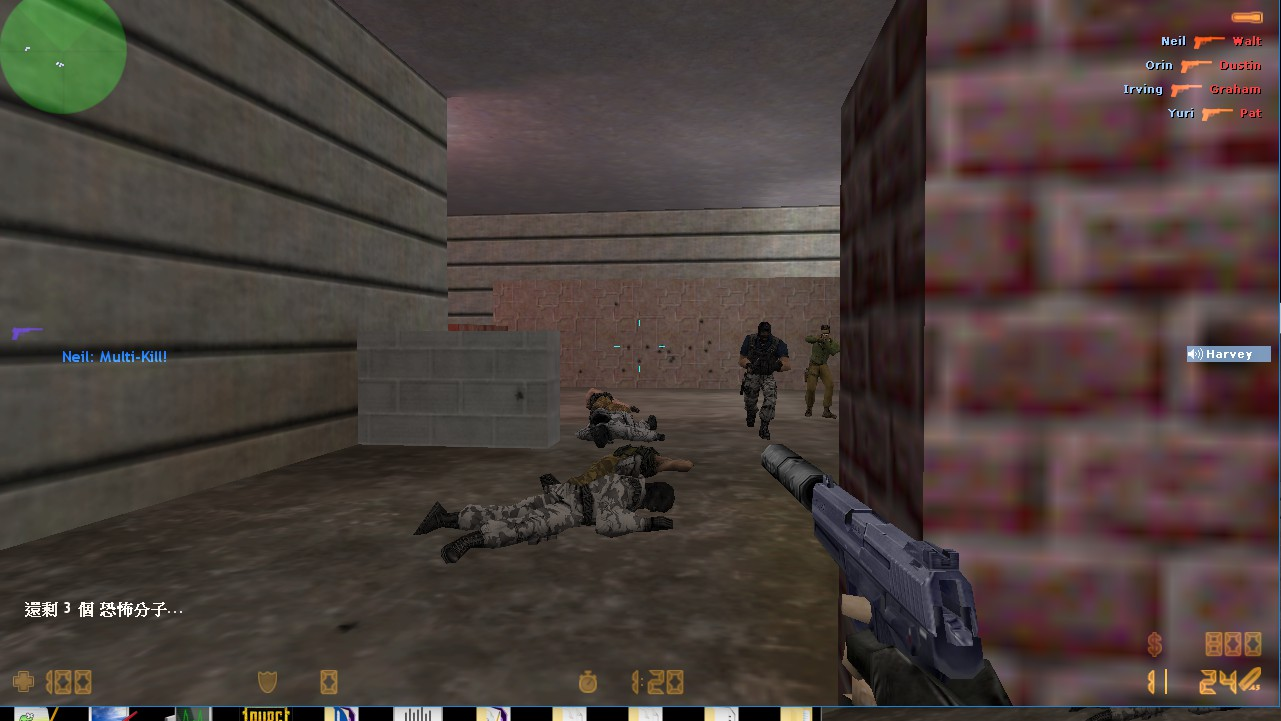person: (733, 316, 786, 438), (798, 319, 841, 423)
